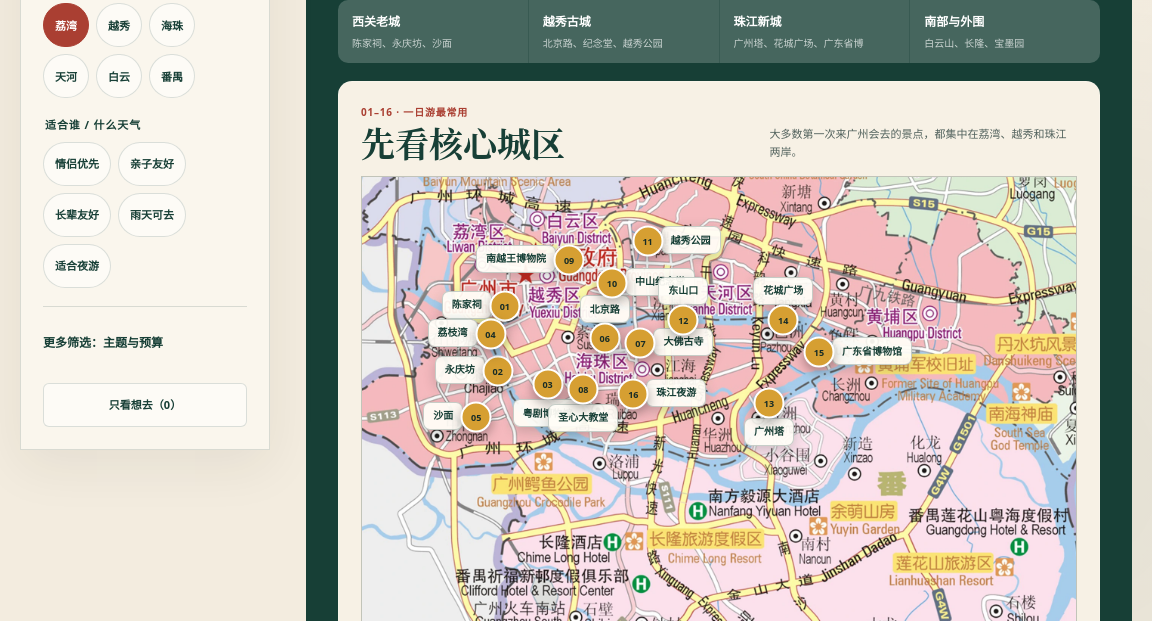
it: DiscoveryView › reveals a map-selected card even when the current filters exclude it
(page scrolled)
Step 1. Click the button with aria-label "核心城区位置 1：陈家祠" → point(505, 306), box [483,284,527,328]
(page scrolled)
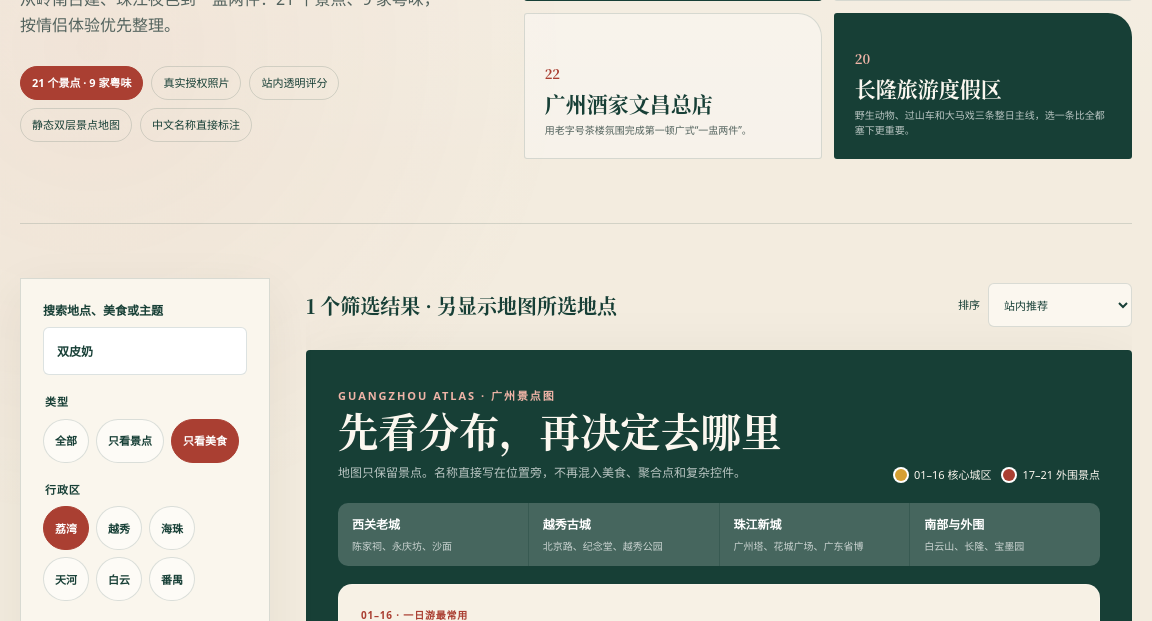
Expected: the text "1 个筛选结果 · 另显示地图所选地点" is shown, [306,290,617,320]
